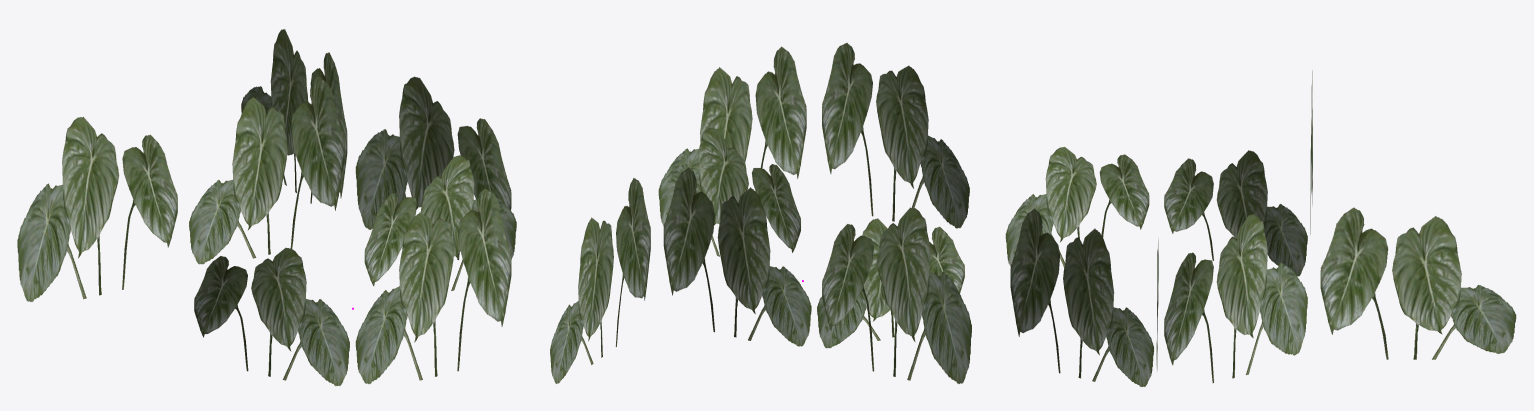
File: mveg5e.glb
3 views of the same model, side by side, from view 1: azimuth 30°, elevation 25°; view 2: azimuth 150°, elevation 25°; view 3: azimuth 270°, elevation 25° (orthographic). The views are drawn at different scales.
Visible parts, largest first — view 1: 01 Mesh0; view 2: 01 Mesh0; view 3: 01 Mesh0.
Boxes of the visible parts, x1,y1,x2,y2 form: 01 Mesh0: (17, 29, 516, 385); 01 Mesh0: (550, 43, 971, 383); 01 Mesh0: (1005, 70, 1516, 386).
Bounding box in the file's own units: 4.74 × 2.26 × 5.47.
Materials: 2 (1 with a texture image).
